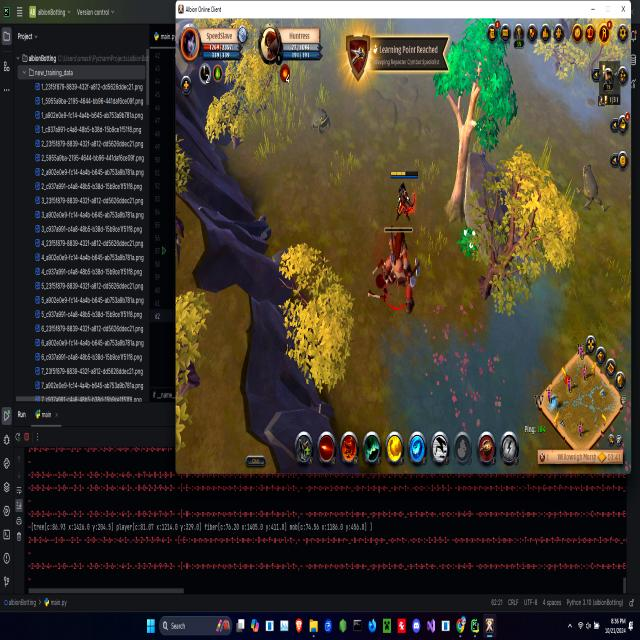hide: (458, 222, 487, 264)
ore: (380, 220, 422, 325), (572, 156, 614, 225), (306, 96, 334, 149)
red: (388, 168, 420, 230)
wisp caged: (432, 20, 524, 223)
